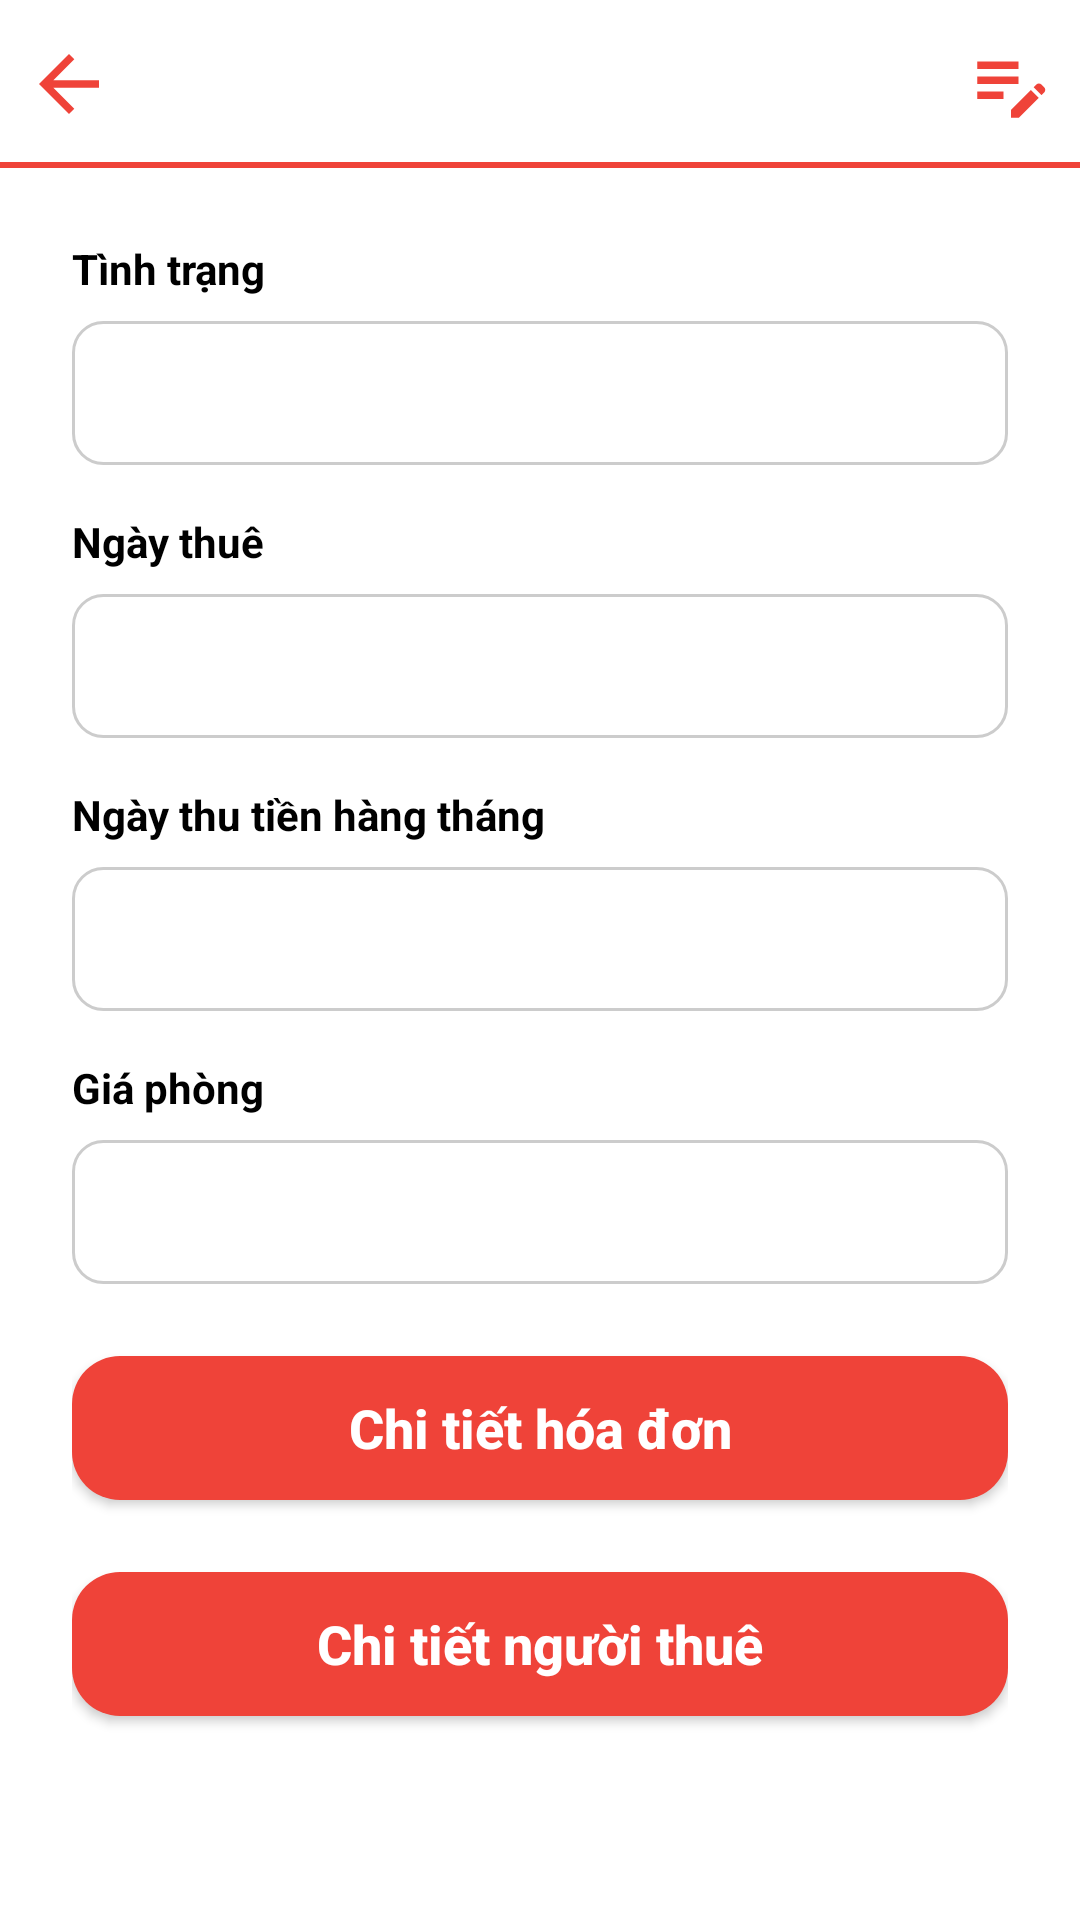

Icons on this 1080x1920 Android screen, each with the point to tap as (x,y):
back: (69,84)
edit: (1011,89)
